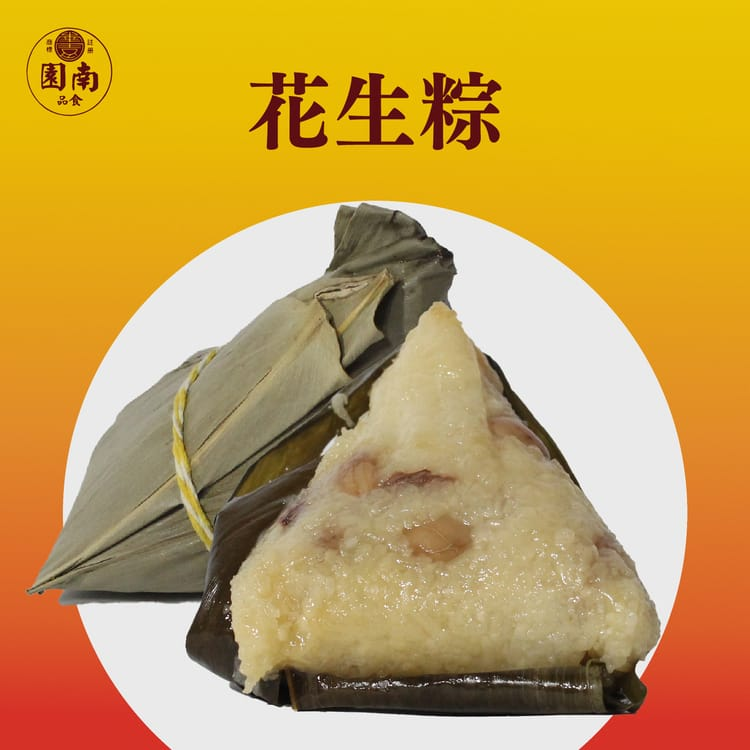zongzi: (30, 204, 454, 593), (233, 303, 658, 677)
